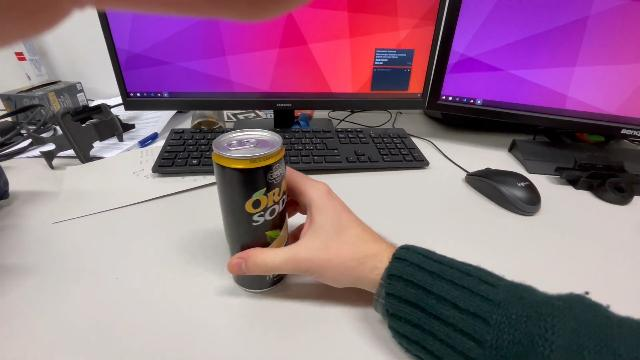OranSoda: (208, 126, 294, 294)
